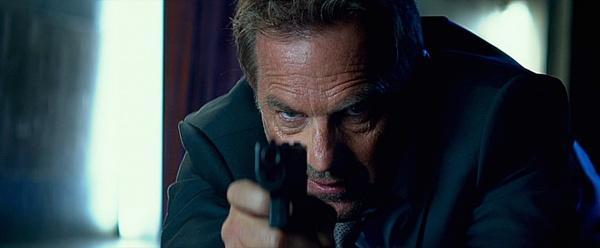Gun: (254, 137, 315, 236)
